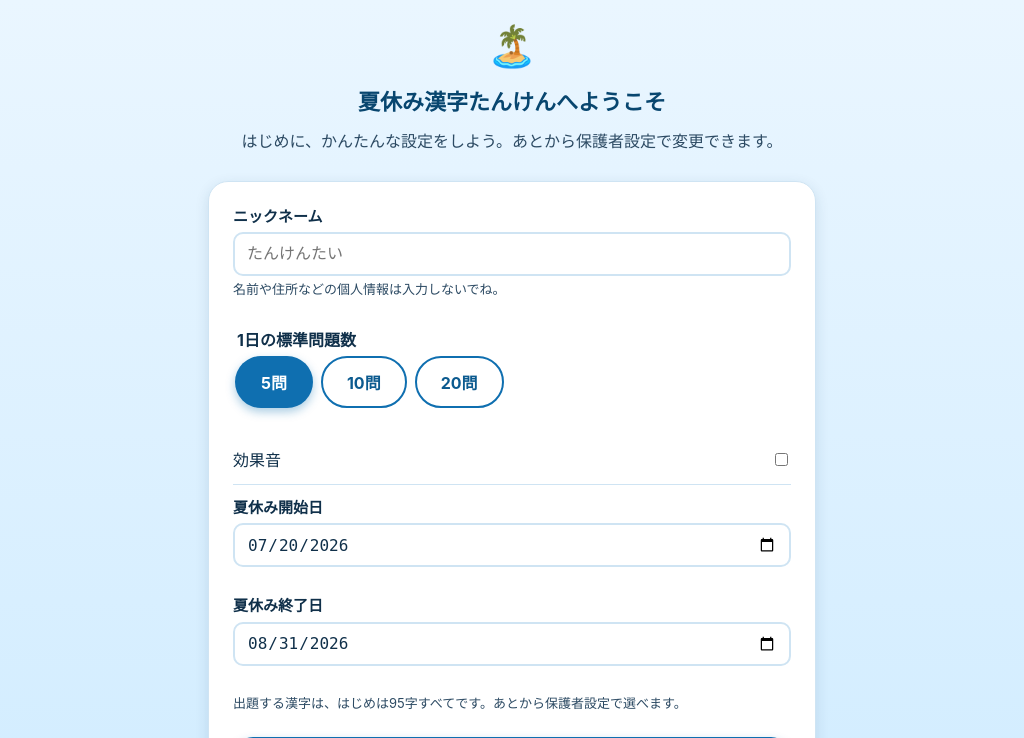
App › starts the "today's 5 questions" set and shows a question
Check: the heading "夏休み漢字たんけんへようこそ" is shown, box [358,88,666,117]
Type "たろう" into the field labelled "ニックネーム" at [512, 254], box [233,232,791,276]
(page scrolled)
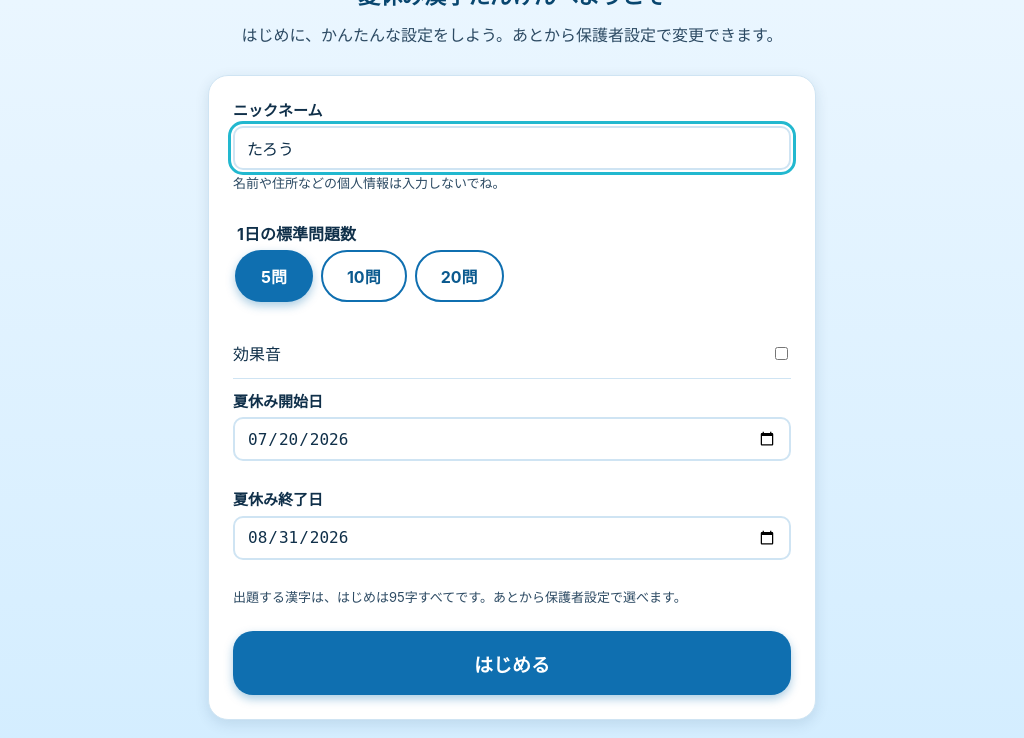
Click the button "はじめる" at [512, 663], box [233,631,791,695]
(page scrolled)
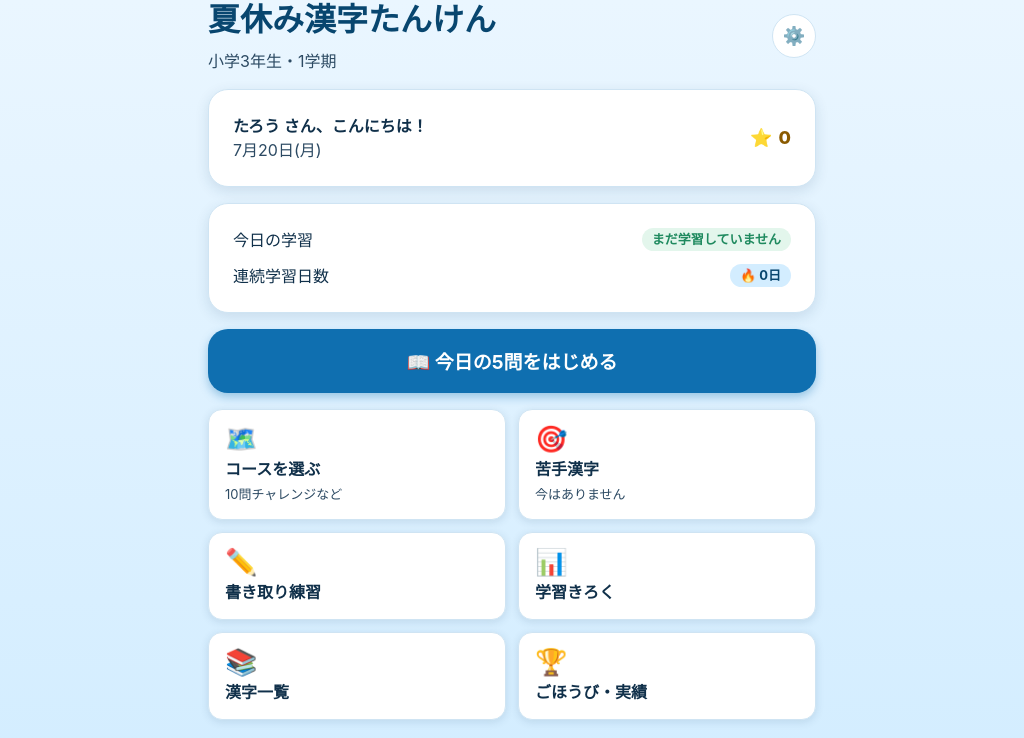
Check: the heading "夏休み漢字たんけん" is shown, box [208,0,496,41]
Click the button "📖 今日の5問をはじめる" at [512, 361], box [208,329,816,393]
(page scrolled)
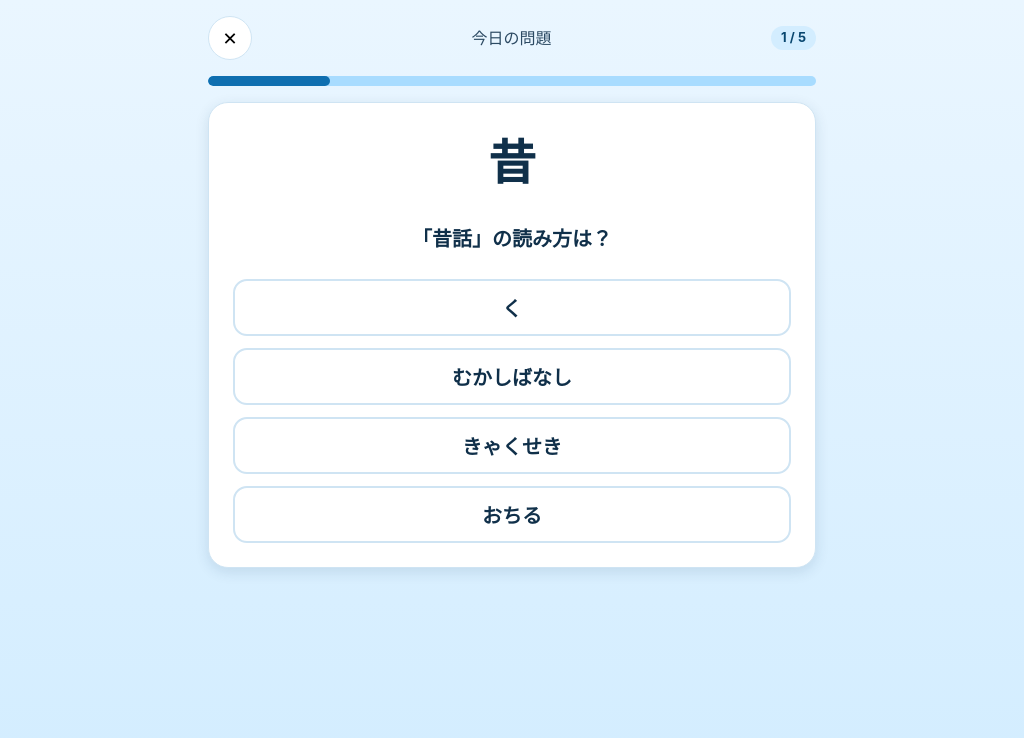
Check: the text "1 / 5" is shown, box [771,26,816,50]
Check: the element with class "choice-grid" is shown, box [233,279,791,543]
